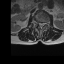CCS_normal: (40, 20, 42, 31)
LFS_normal: (44, 19, 46, 26)
LLS_normal: (42, 20, 44, 27)
RFS_stenosis: (36, 19, 38, 25)
RLS_normal: (38, 20, 40, 27)
